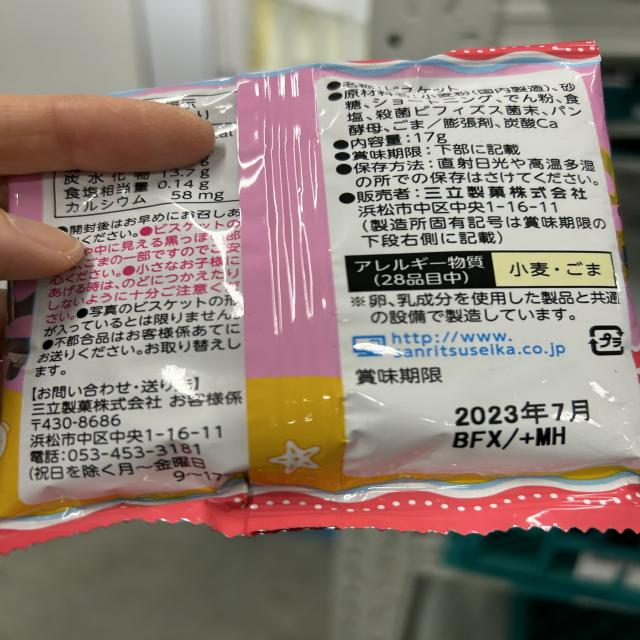object_name: (15, 99, 629, 523)
